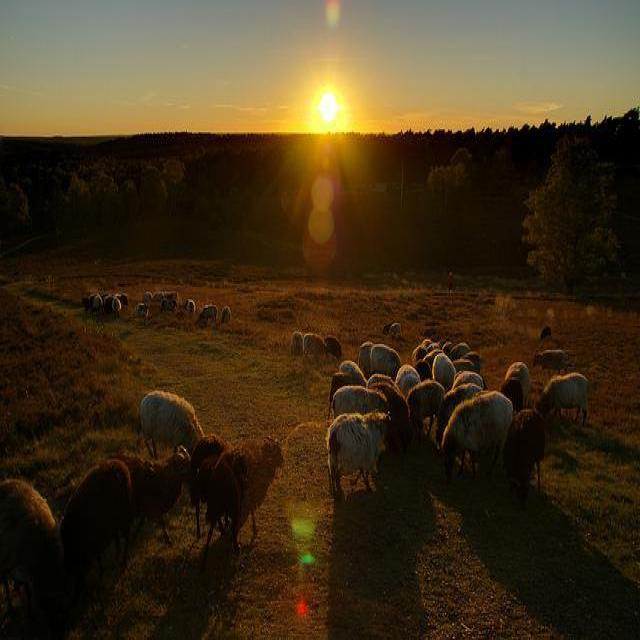Sheep: (82, 16, 565, 542), (200, 436, 287, 565), (58, 454, 134, 601), (105, 445, 192, 548), (0, 474, 60, 614), (441, 388, 514, 482), (324, 412, 395, 498), (139, 389, 207, 460), (501, 409, 545, 512), (435, 383, 483, 446), (534, 374, 590, 427)
